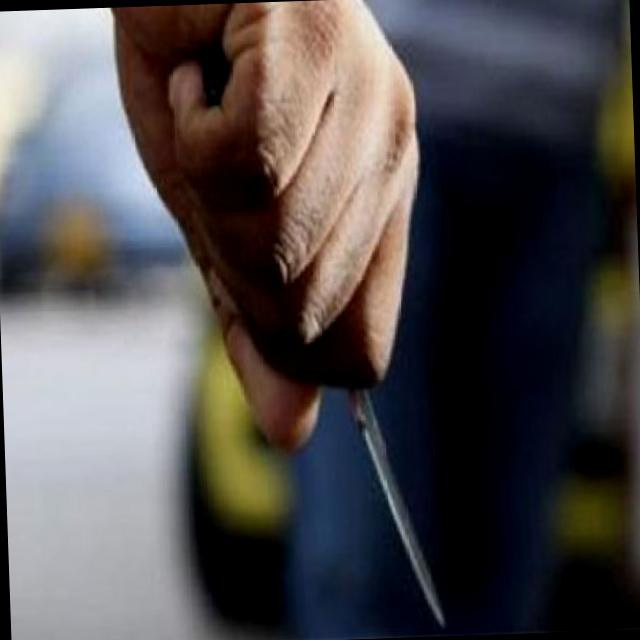knife: (232, 136, 455, 638)
